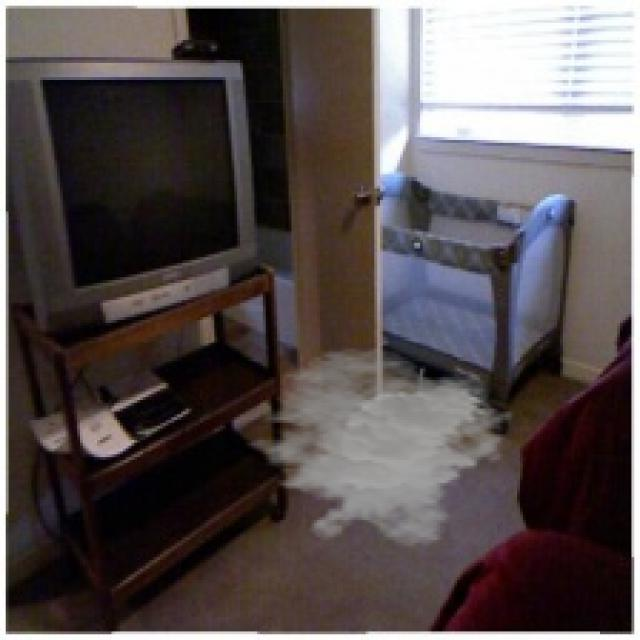smoke: (237, 346, 517, 548)
